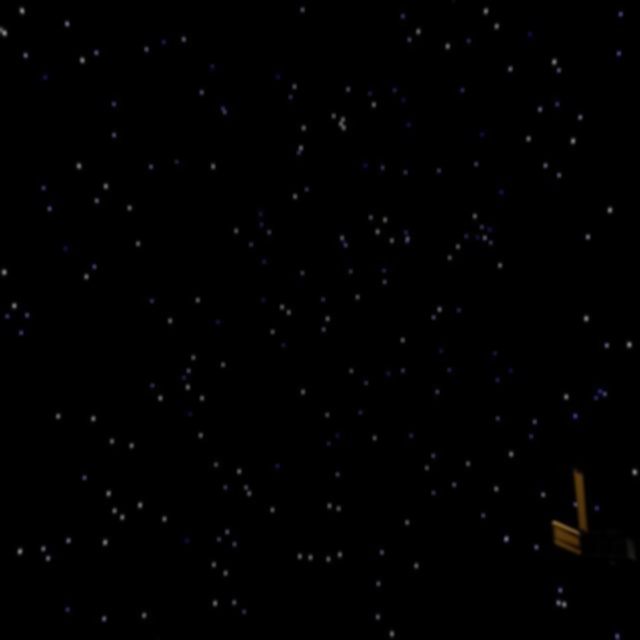satellite: (542, 472, 640, 581)
